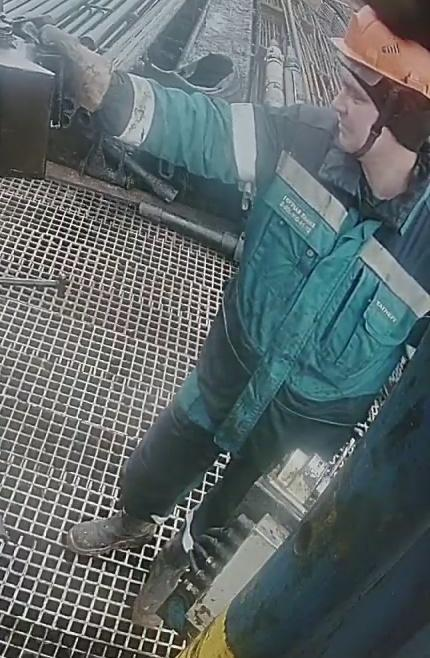gloves: (34, 24, 121, 117)
helmet: (327, 4, 429, 103)
vest: (188, 147, 429, 458)
